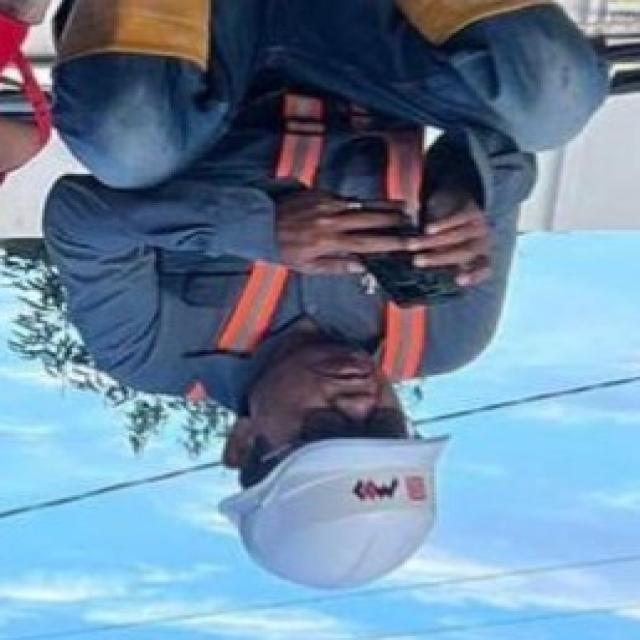safetyhelmet: (215, 342, 463, 593)
